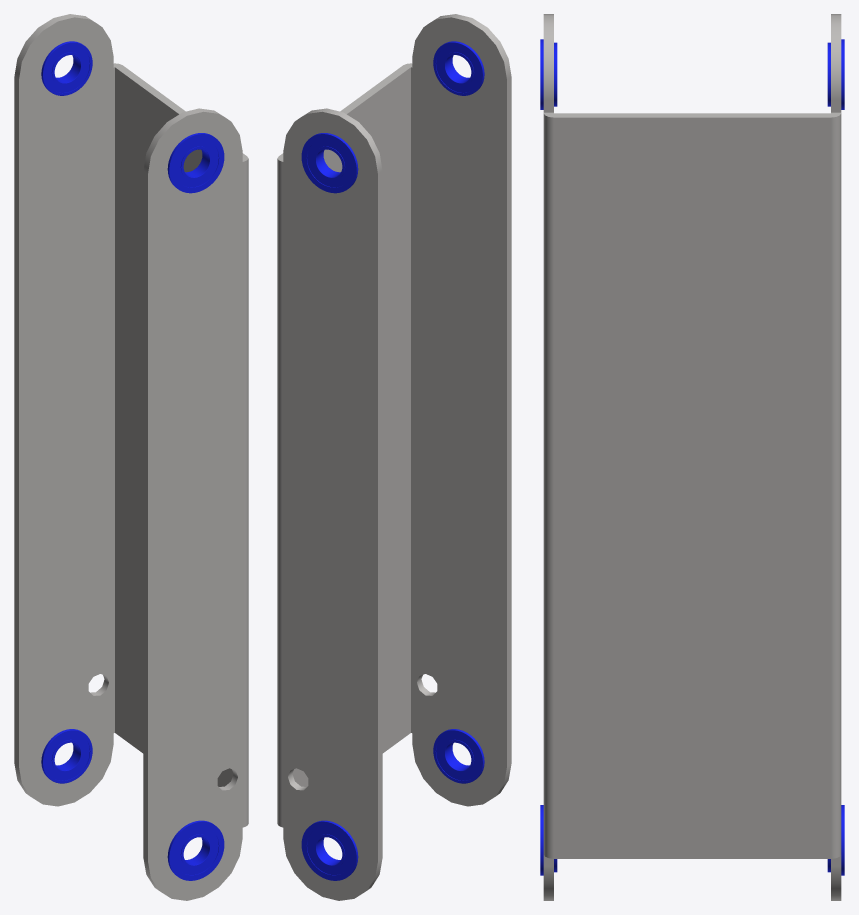
Rendered from lifter_bone_dummy.dae.
3 renders of one model, left to right at view 1: azimuth 30°, elevation 25°; view 2: azimuth 150°, elevation 25°; view 3: azimuth 270°, elevation 25°, orthographic. The views are drawn at different scales.
Visible parts, largest first — view 1: ソリッド1, ソリッド2, ソリッド3, ソリッド4, ソリッド5; view 2: ソリッド1, ソリッド5, ソリッド4, ソリッド3, ソリッド2; view 3: ソリッド1.
Boxes of the visible parts, left/top/right/bottom form: ソリッド1: left=14, top=14, right=248, bottom=900; ソリッド2: left=167, top=820, right=224, bottom=880; ソリッド3: left=167, top=133, right=224, bottom=193; ソリッド4: left=41, top=41, right=92, bottom=95; ソリッド5: left=41, top=729, right=92, bottom=783; ソリッド1: left=277, top=14, right=511, bottom=900; ソリッド5: left=301, top=820, right=358, bottom=880; ソリッド4: left=301, top=133, right=358, bottom=193; ソリッド3: left=433, top=41, right=484, bottom=95; ソリッド2: left=433, top=729, right=484, bottom=783; ソリッド1: left=543, top=14, right=841, bottom=900.
Size of the model in its own units: 0.0395 by 0.09 by 0.2855.
